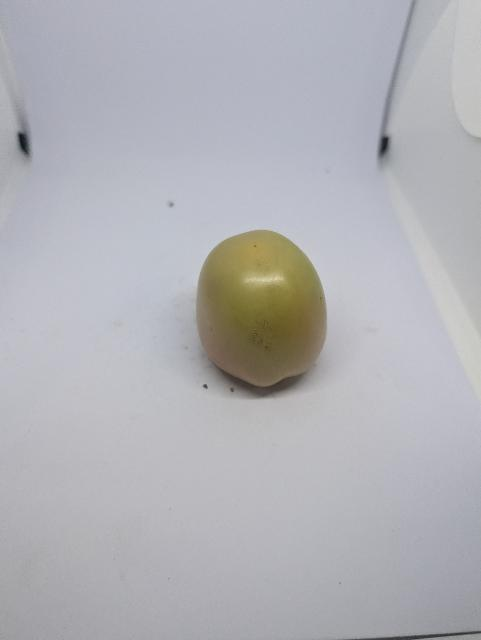breaker: (197, 230, 327, 386)
